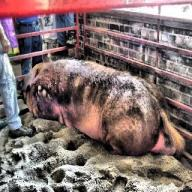boar: (20, 55, 186, 158)
